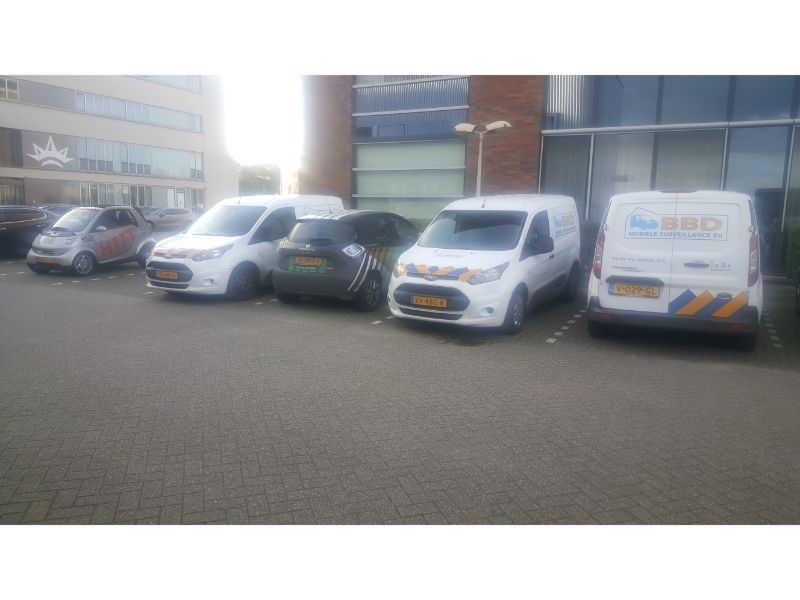kenteken: (611, 282, 660, 298), (409, 294, 448, 310), (293, 254, 323, 267), (154, 269, 181, 280)
